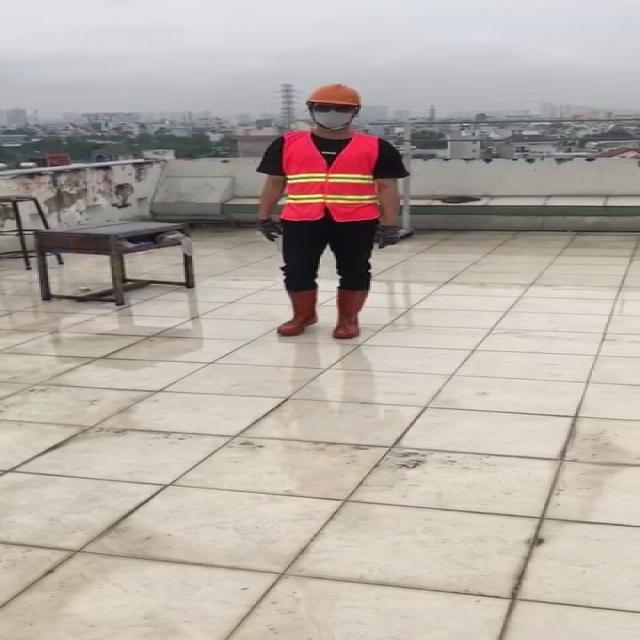gloves: (256, 214, 282, 245), (371, 224, 399, 252)
goggles: (311, 101, 352, 113)
helmet: (305, 83, 362, 107)
safety_vest: (277, 132, 379, 220)
